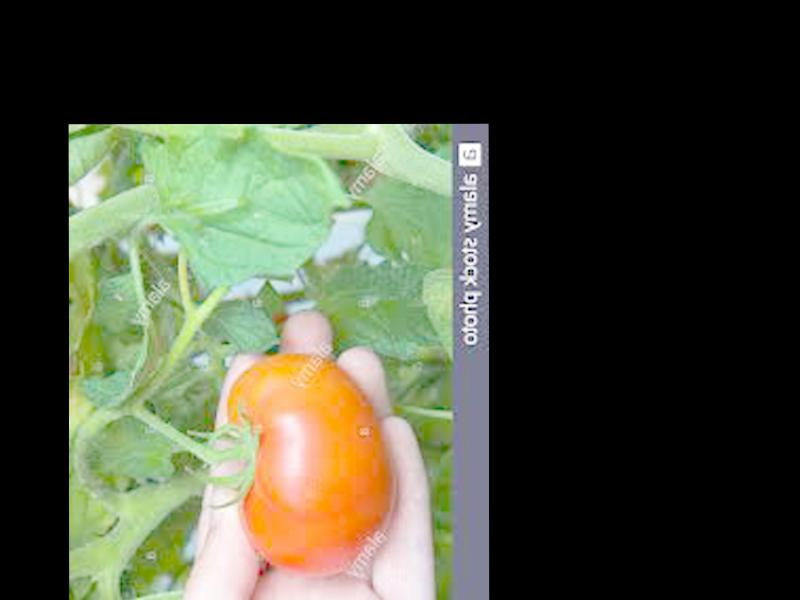Tomato: (227, 353, 390, 578)
